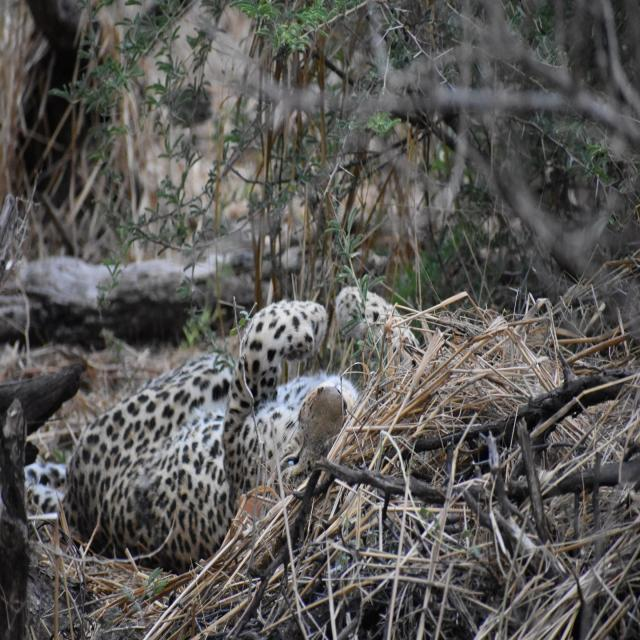Leopard: (10, 258, 434, 572)
